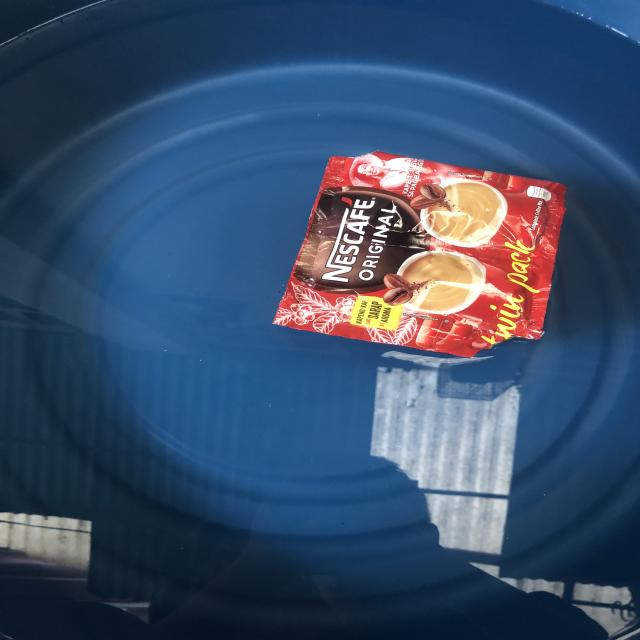Plastic Wrapper: (256, 142, 576, 378)
